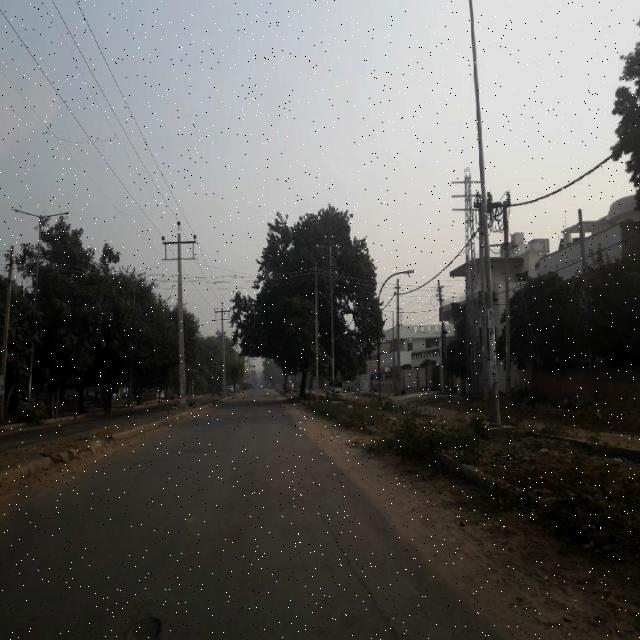D00: (314, 497, 434, 637)
D40: (113, 605, 169, 639)
